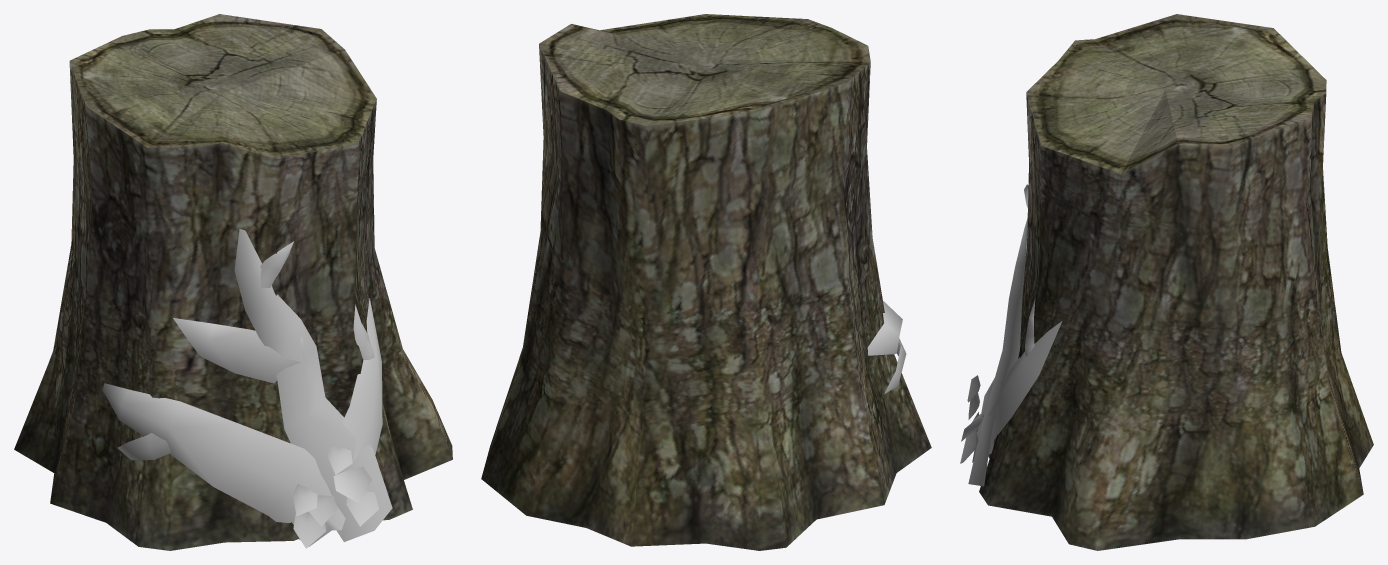
File: ivy_tree.FBX
3 renders of one model, left to right at view 1: azimuth 30°, elevation 25°; view 2: azimuth 150°, elevation 25°; view 3: azimuth 270°, elevation 25°, orthographic. The views are drawn at different scales.
Parts seen in each view (by area): view 1: tree, ivy00; view 2: tree, ivy00; view 3: tree, ivy00.
Part boxes in pixels (x1,y1,x2,y2): tree: [14, 14, 452, 550]; ivy00: [102, 229, 392, 548]; tree: [481, 14, 931, 550]; ivy00: [867, 301, 906, 393]; tree: [979, 14, 1373, 550]; ivy00: [960, 184, 1062, 486].
Size of the model in its own units: 84.33 by 89.55 by 85.4.
